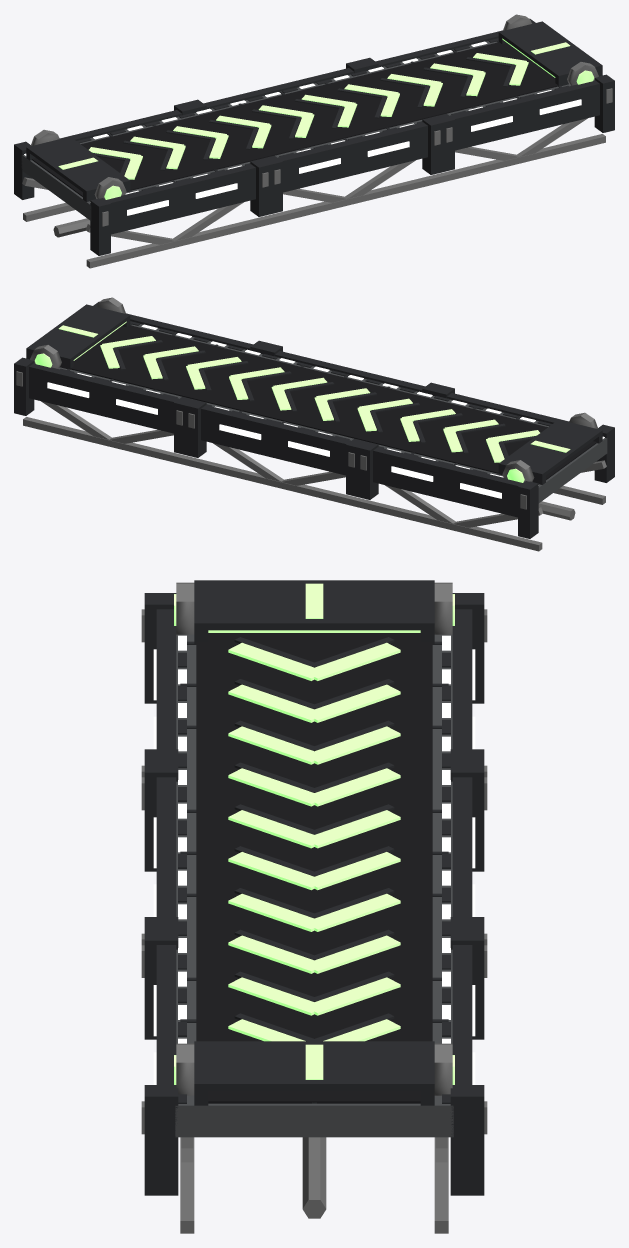
Rendered from Deck_Conveyor_v3_12.glb.
The picture shows the model from 3 angles, top to bottom: view 1: azimuth 30°, elevation 25°; view 2: azimuth 150°, elevation 25°; view 3: azimuth 270°, elevation 25°; orthographic projection. The views are drawn at different scales.
Visible parts, largest first — view 1: Deck_Conveyor_v3_12, Treads; view 2: Deck_Conveyor_v3_12, Treads; view 3: Deck_Conveyor_v3_12, Treads.
Part boxes in pixels (x1,y1,x2,y2): Deck_Conveyor_v3_12: (14,14,614,268); Treads: (89,53,528,179); Deck_Conveyor_v3_12: (14,297,614,551); Treads: (100,336,539,462); Deck_Conveyor_v3_12: (141,580,487,1233); Treads: (228,637,400,1041).
Size of the model in its own units: 12.05 by 1.86 by 3.48.
